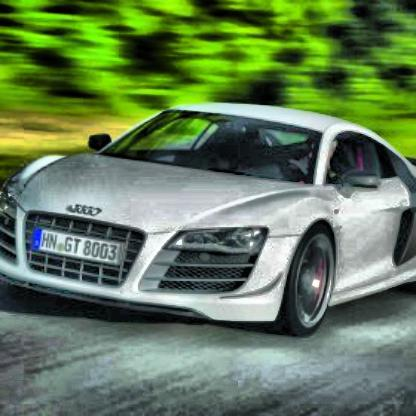Audi R8 Coupe 2012: (2, 103, 416, 339)
